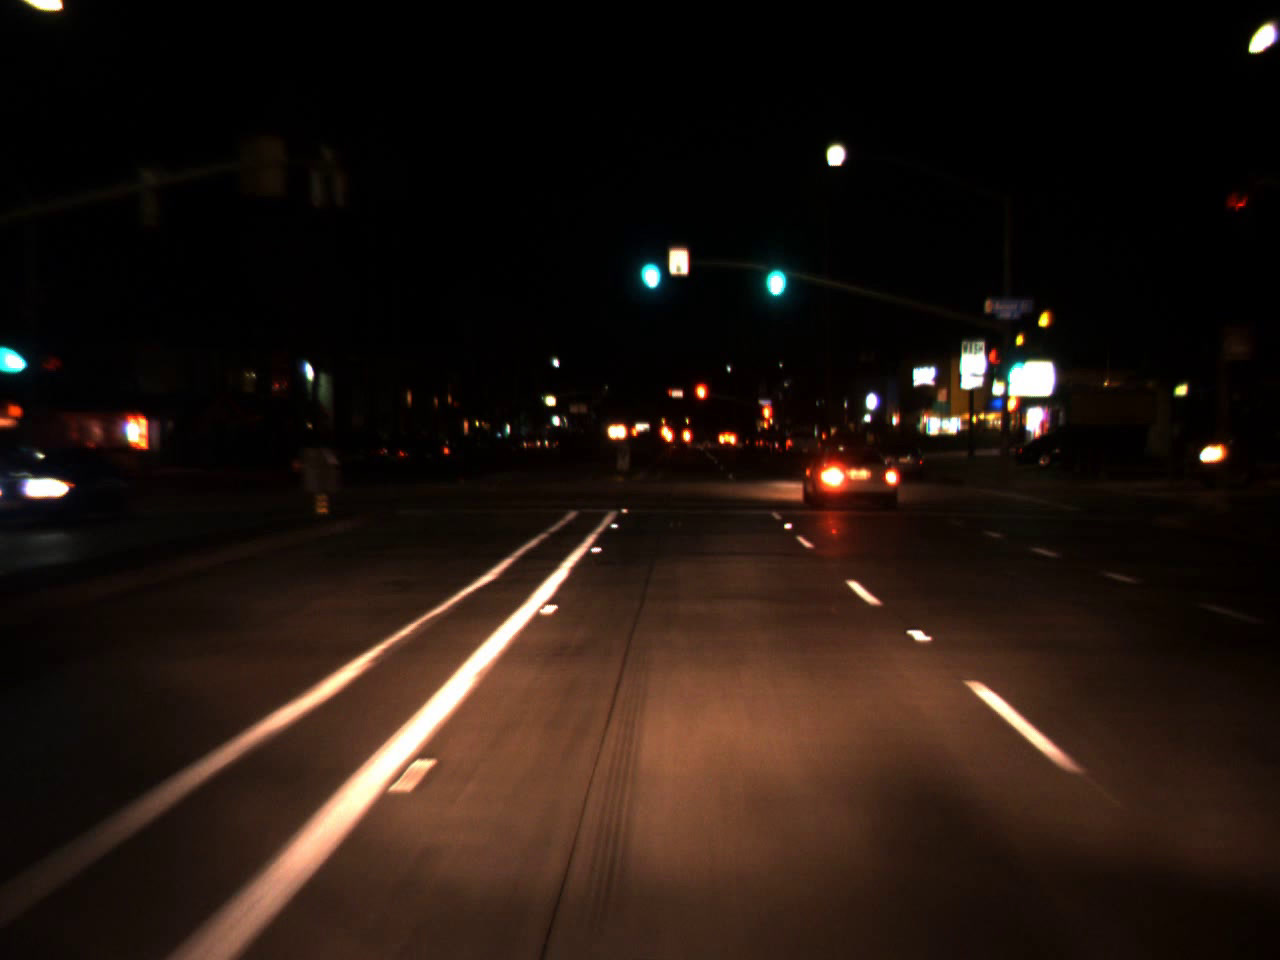go: (1000, 332, 1036, 404), (757, 235, 791, 307), (0, 312, 33, 384), (633, 232, 665, 295)
stop: (693, 381, 709, 418), (762, 404, 771, 433)
